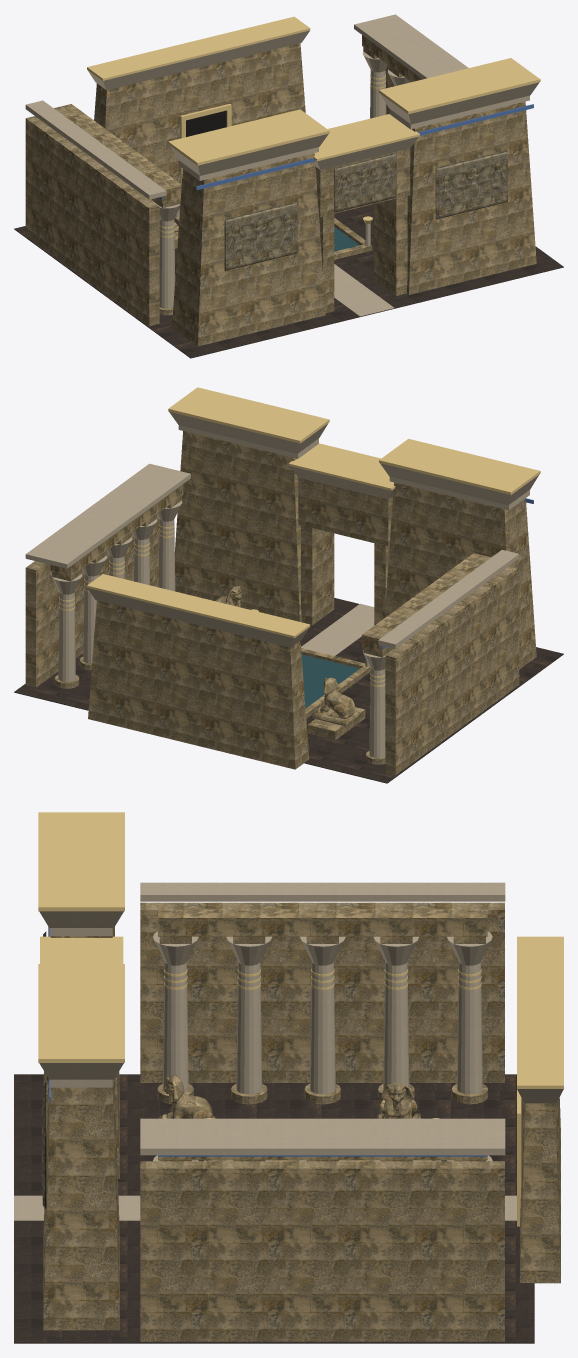
File: egyptian-gardens.glb
The picture shows the model from 3 angles, top to bottom: view 1: azimuth 30°, elevation 25°; view 2: azimuth 150°, elevation 25°; view 3: azimuth 270°, elevation 25°; orthographic projection. The views are drawn at different scales.
Visible parts, largest first — view 1: gardens_stone, gardens_trim, gardens_gold, merged_gardens_relief_egypt-wingedsun.001, gardens_floor, merged_gardens_relief_egypt-wingedsun, gardens_lapis, gardens_shadow; view 2: gardens_stone, gardens_trim, gardens_gold, gardens_floor, merged_gardens_stone, gardens_water; view 3: gardens_stone, gardens_trim, gardens_gold, gardens_floor, merged_gardens_stone, gardens_lapis.
Boxes of the visible parts, bbox=[...] form: gardens_stone: bbox=[25, 35, 536, 346]; gardens_trim: bbox=[25, 14, 539, 316]; gardens_gold: bbox=[87, 16, 540, 237]; merged_gardens_relief_egypt-wingedsun.001: bbox=[224, 150, 507, 270]; gardens_floor: bbox=[14, 200, 563, 358]; merged_gardens_relief_egypt-wingedsun: bbox=[334, 153, 396, 212]; gardens_lapis: bbox=[158, 104, 533, 200]; gardens_shadow: bbox=[186, 110, 226, 136]; gardens_stone: bbox=[25, 431, 536, 775]; gardens_trim: bbox=[25, 411, 539, 757]; gardens_gold: bbox=[59, 387, 540, 686]; gardens_floor: bbox=[14, 598, 563, 783]; merged_gardens_stone: bbox=[215, 586, 360, 726]; gardens_water: bbox=[301, 654, 359, 707]; gardens_stone: bbox=[43, 902, 560, 1341]; gardens_trim: bbox=[14, 882, 563, 1220]; gardens_gold: bbox=[38, 812, 563, 1226]; gardens_floor: bbox=[14, 1074, 534, 1343]; merged_gardens_stone: bbox=[158, 1074, 420, 1118]; gardens_lapis: bbox=[49, 928, 487, 1156].
Bounding box in the file's own units: 21.6 × 10.27 × 18.7.
Materials: 9 (5 with a texture image).
